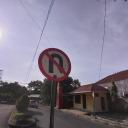NoVirarU: (36, 44, 74, 86)
